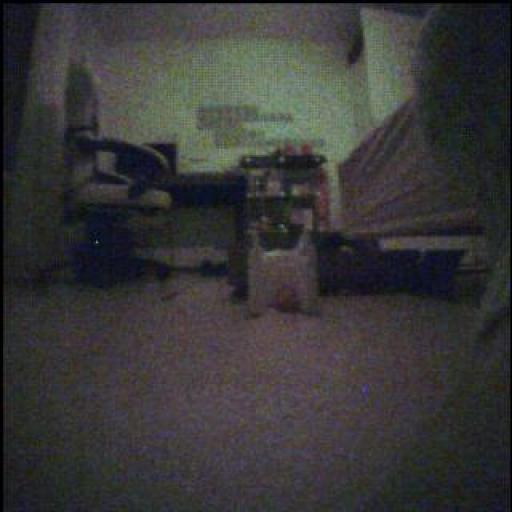basket: (274, 283, 299, 314)
